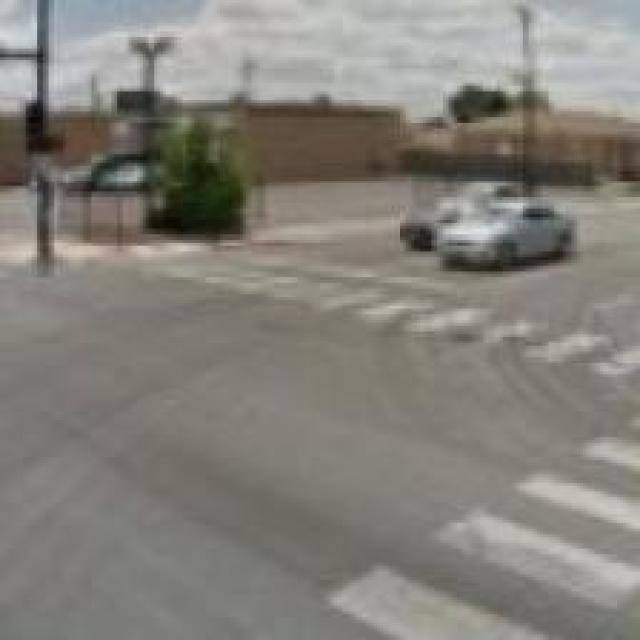walk-crossing: (329, 394, 640, 640), (171, 237, 640, 383)
